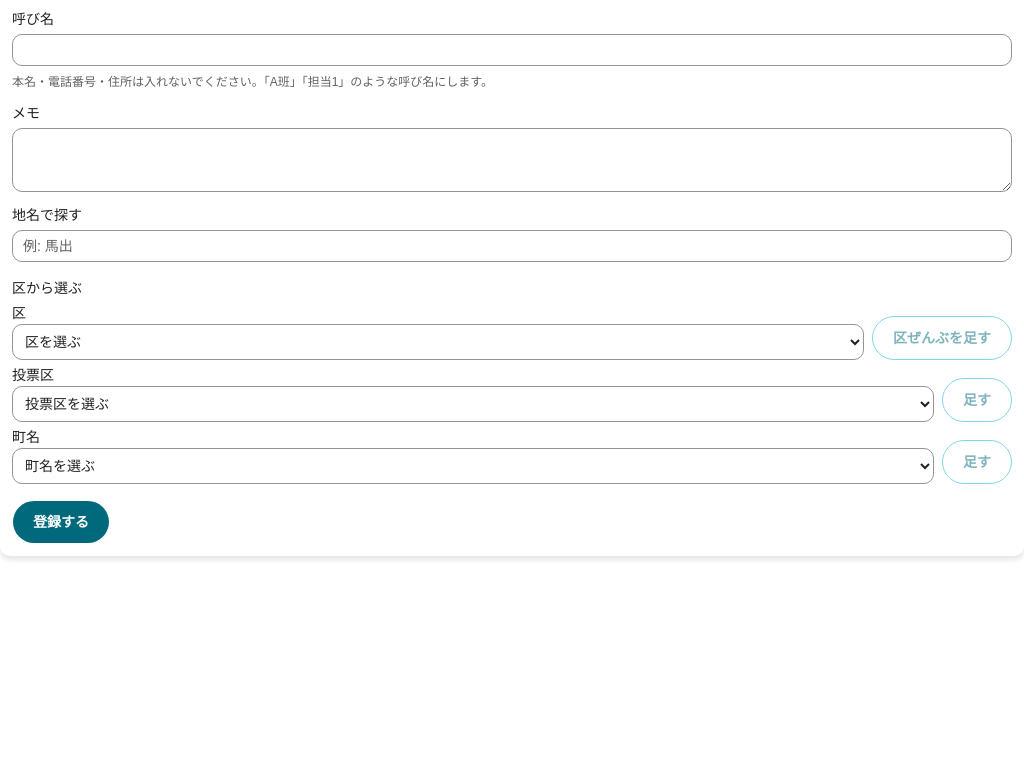
Test case: 「馬出」と打つと候補に種類と掲示場の数が出る
Type "馬出" into the field labelled "地名で探す". click: (512, 246)
box: left=12, top=230, right=1012, bottom=262
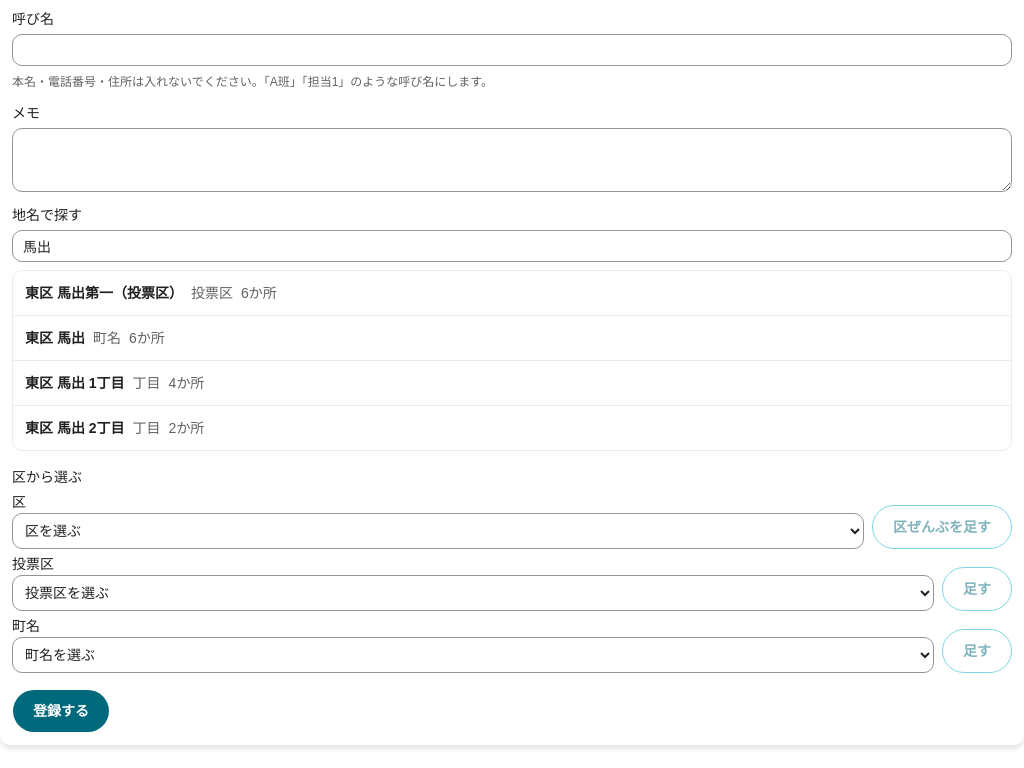
Result: the button "東区 馬出 町名 6か所" is shown at left=13, top=316, right=1011, bottom=360
Result: the button "東区 馬出 1丁目 丁目 4か所" is shown at left=13, top=361, right=1011, bottom=405
